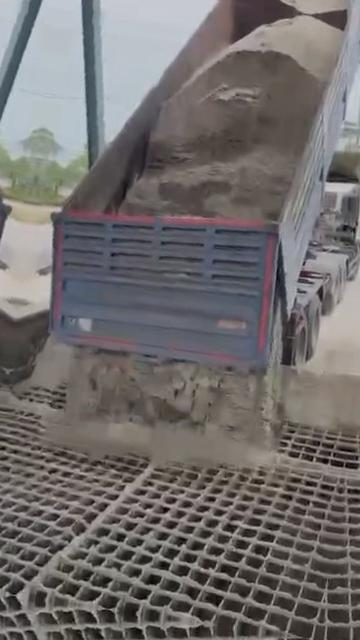sand: (2, 308, 357, 472), (122, 15, 341, 220), (18, 467, 149, 597)
